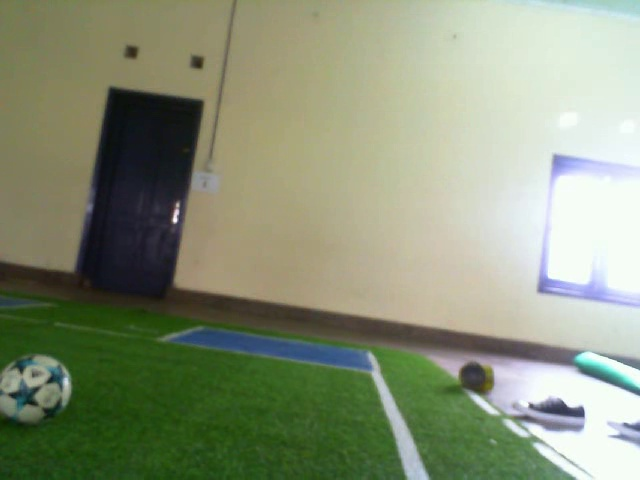ball: (1, 350, 75, 428)
